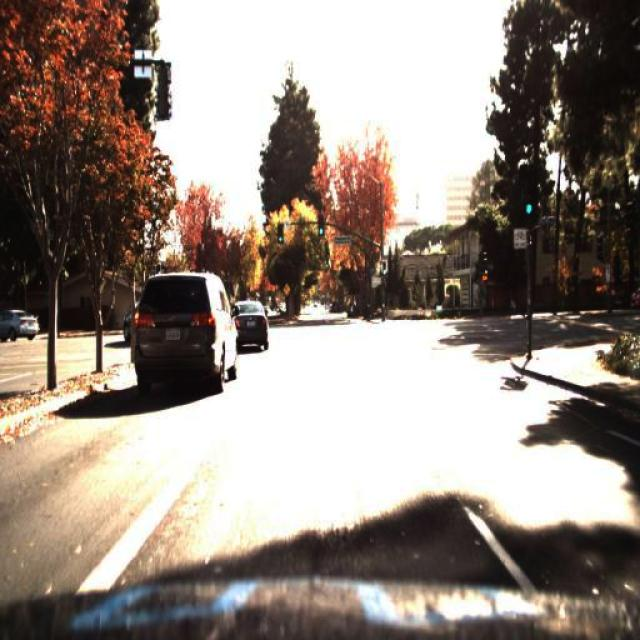semaforo: (516, 167, 538, 225), (316, 214, 325, 238), (277, 223, 285, 244)
